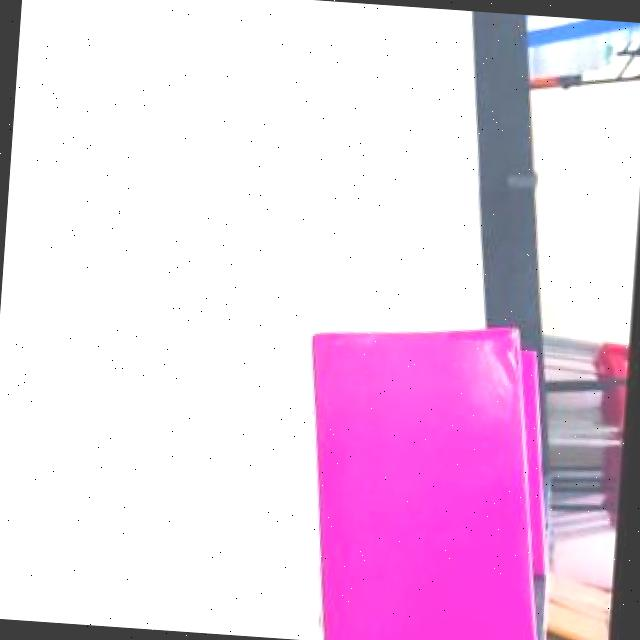xparking: (291, 317, 535, 640)
